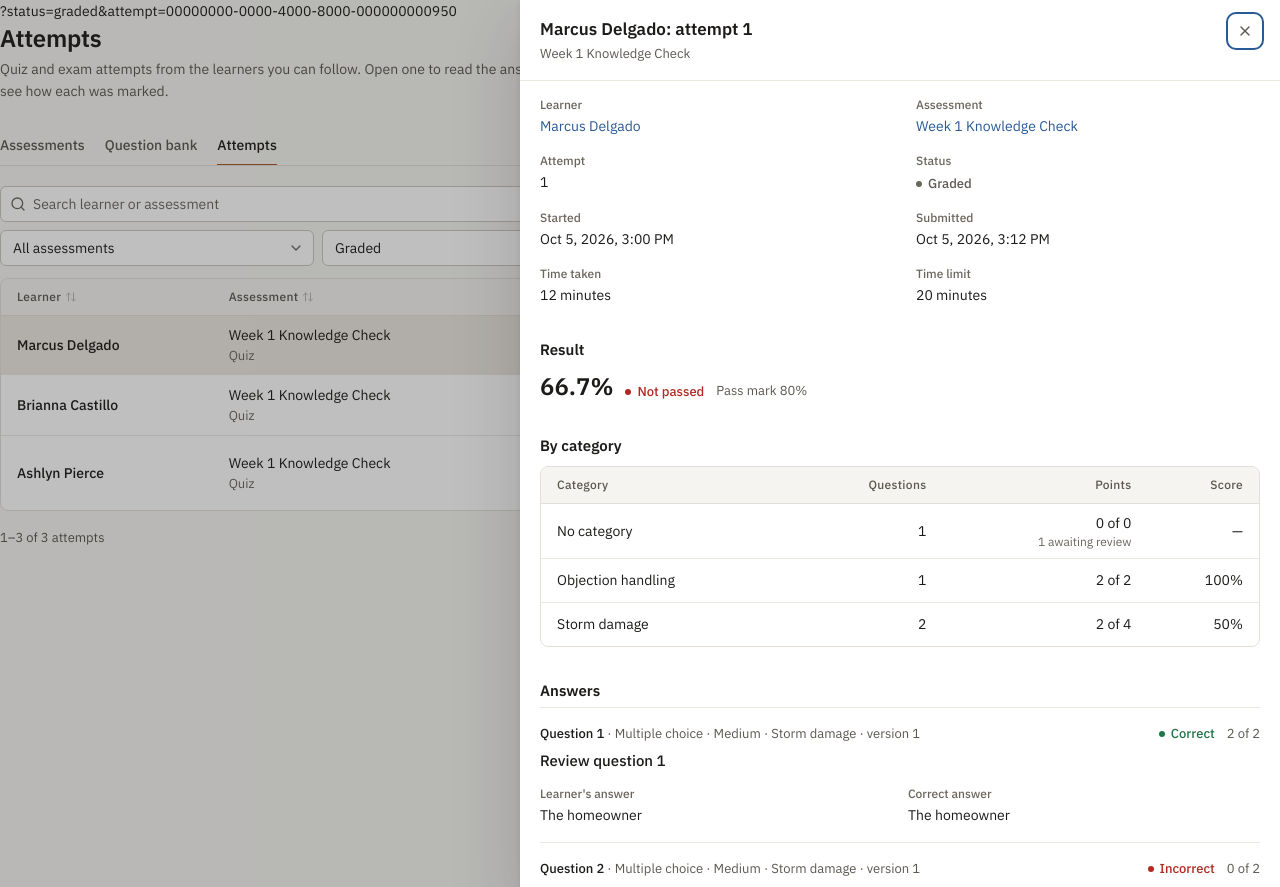
Test: AttemptsReviewPage › closing the breakdown removes it from the URL but keeps the list filters
Click the button named "Close" at [1245, 31], box 1230,16 -> 1260,46
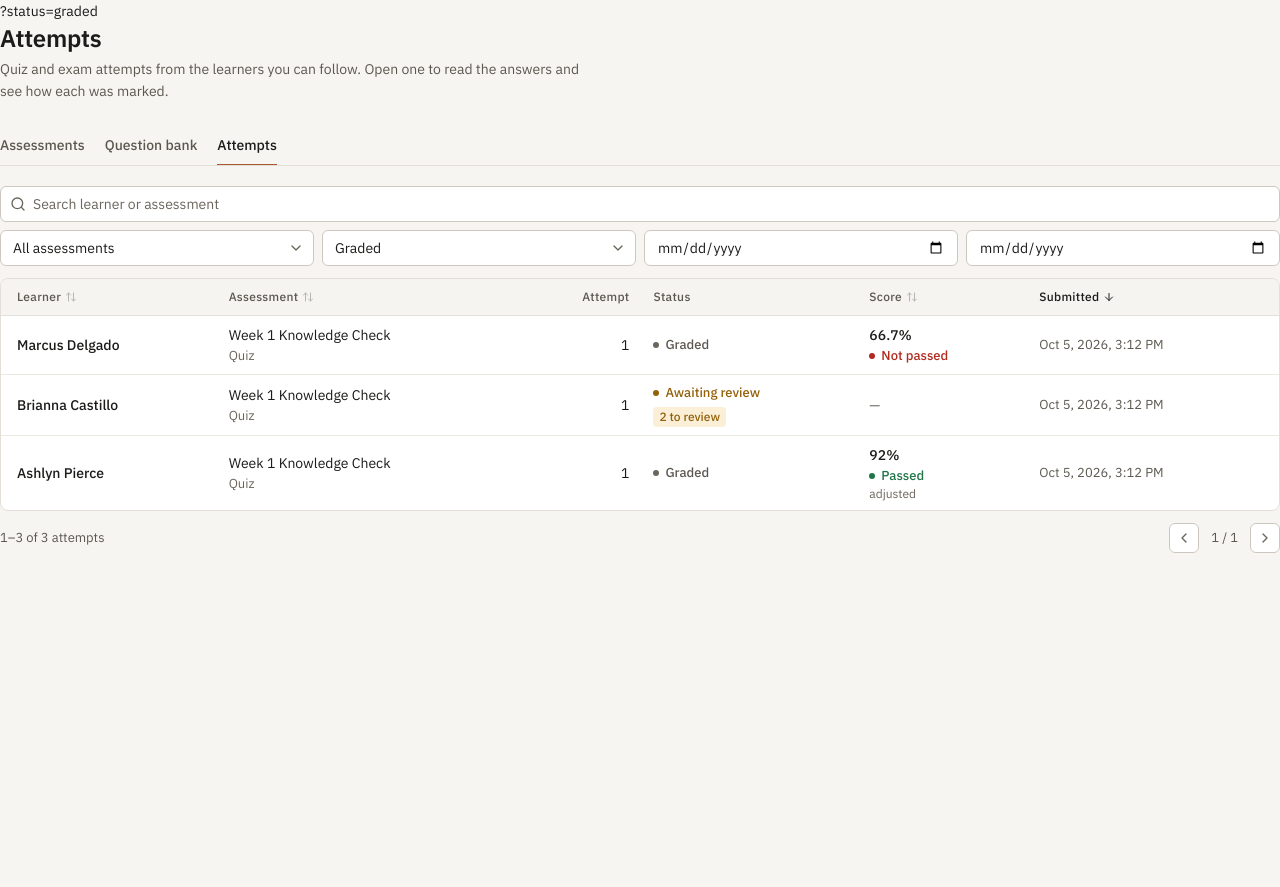
expect the text with test id "search" shows "status=graded": met, box 0,2 -> 98,20
expect the text with test id "search" no longer shows "attempt=": met, box 0,2 -> 98,20
